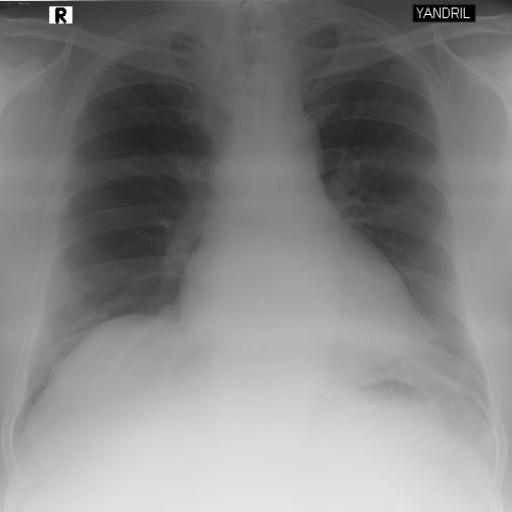kardiomegali: (8, 2, 511, 444)
